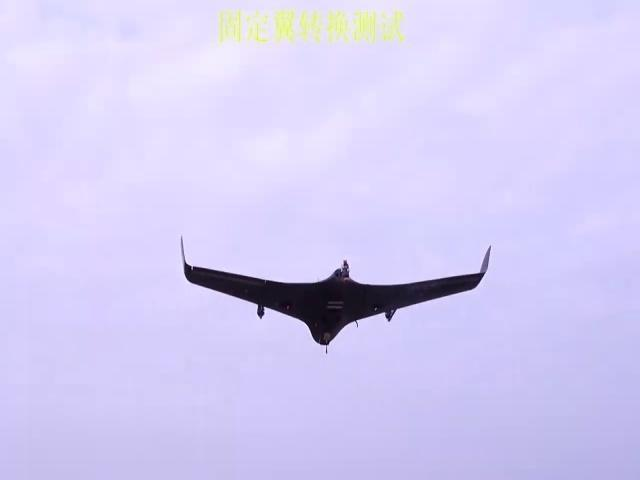Airplane: (180, 234, 491, 353)
